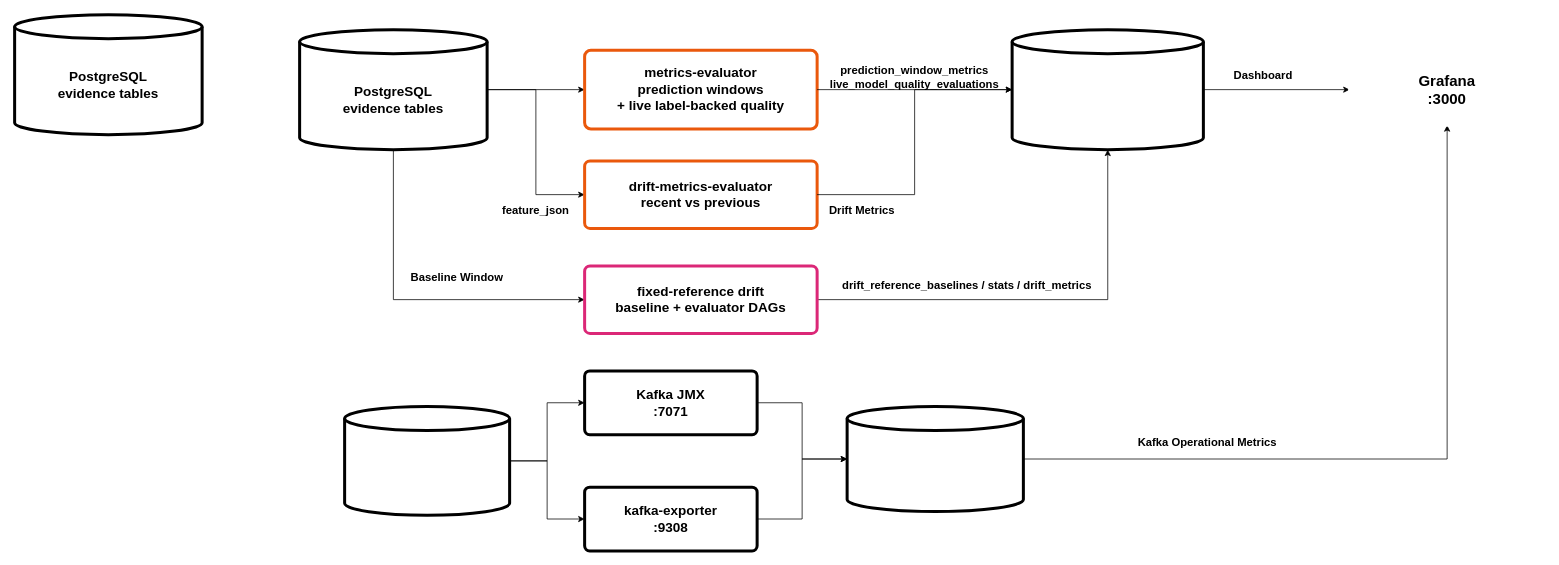
This 1559x565 diagram has some shape labels left out. The shapes that lost their labels are listed below. From the top down, each one's centre as x and y in pixels, then its label:
At point 1107,89: "PostgreSQL metric tables".
At point 427,460: "Kafka broker".
At point 934,459: "Prometheus :9090".
